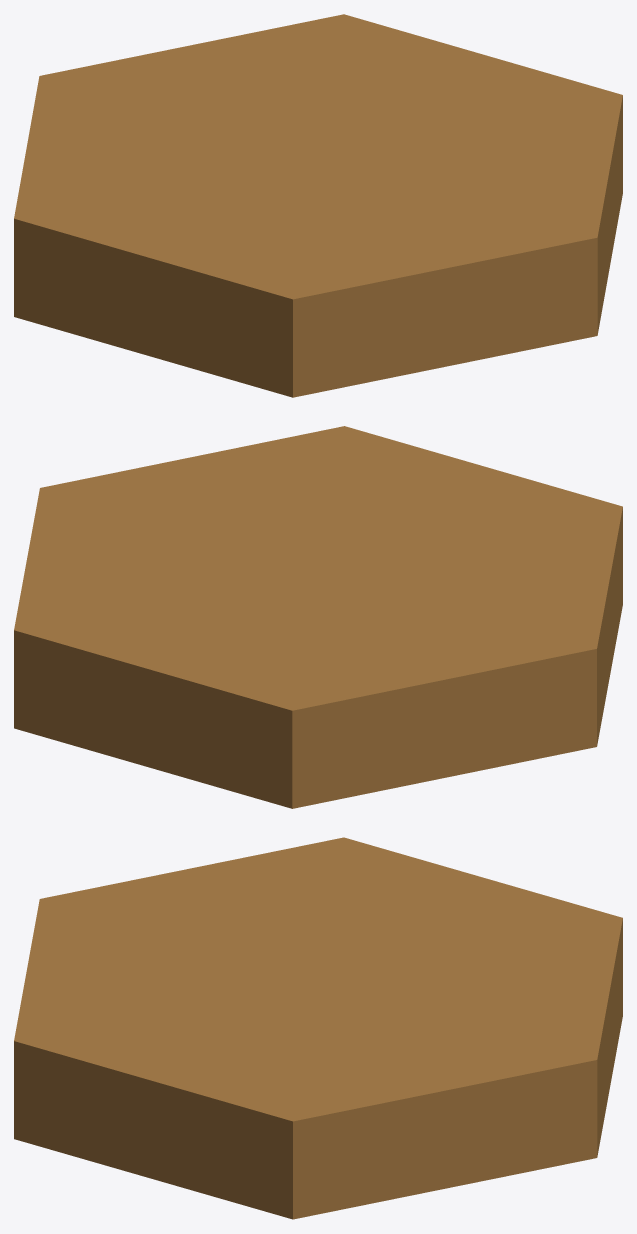
The model's file is SM_Item_Coins_04.glb.
The picture shows the model from 3 angles, top to bottom: view 1: azimuth 30°, elevation 25°; view 2: azimuth 150°, elevation 25°; view 3: azimuth 270°, elevation 25°; orthographic projection.
Parts seen in each view (by area): view 1: SM_Item_Coins_04; view 2: SM_Item_Coins_04; view 3: SM_Item_Coins_04.
Part boxes in pixels (left/top/right/bottom): SM_Item_Coins_04: left=14, top=14, right=622, bottom=397; SM_Item_Coins_04: left=14, top=426, right=622, bottom=808; SM_Item_Coins_04: left=14, top=837, right=622, bottom=1219.
Size of the model in its own units: 0.000845 by 0.000136 by 0.000765.
